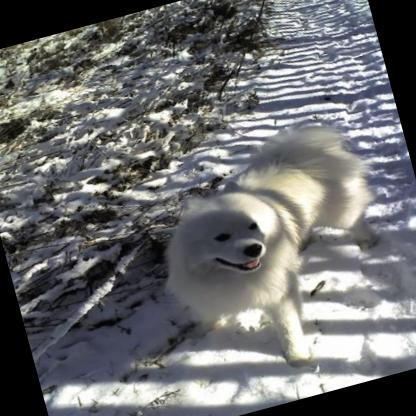Samoyed: (138, 113, 404, 390)
